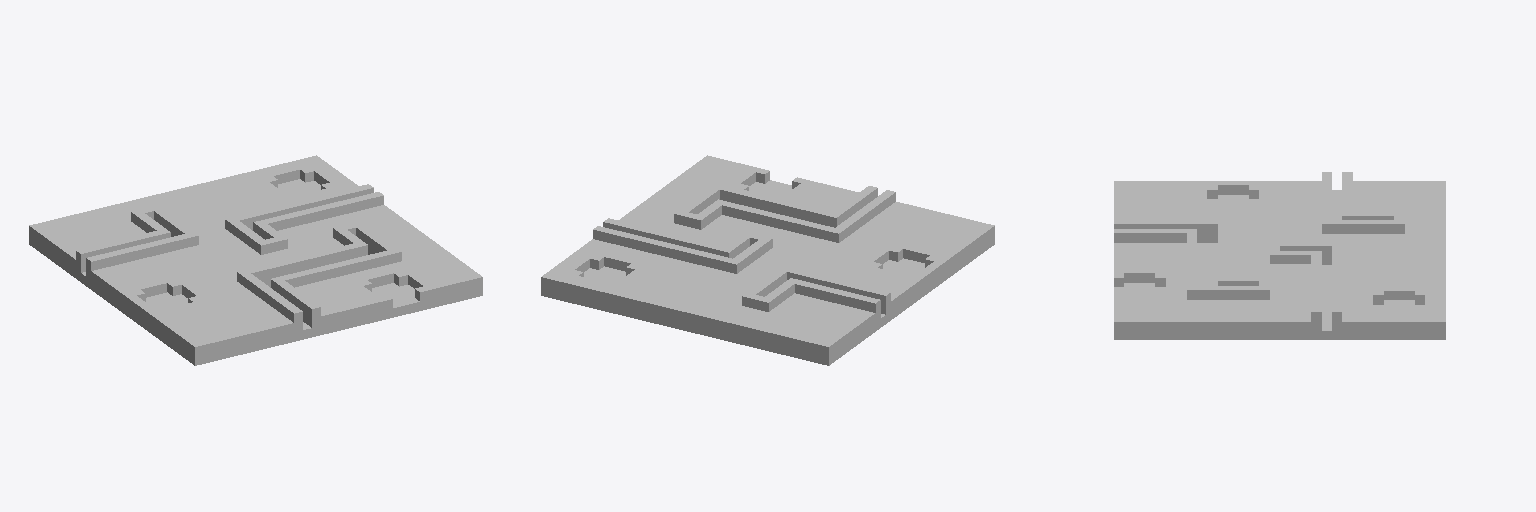
Rendered from Niveau 2.obj.
3 views of the same model, side by side, from view 1: azimuth 30°, elevation 25°; view 2: azimuth 150°, elevation 25°; view 3: azimuth 270°, elevation 25° (orthographic).
Visible parts, largest first — view 1: Niveau 2; view 2: Niveau 2; view 3: Niveau 2.
Boxes of the visible parts, box(x1,y1,x2,y2) form: Niveau 2: box(29, 155, 482, 365); Niveau 2: box(541, 155, 994, 365); Niveau 2: box(1114, 172, 1445, 339).
Size of the model in its own units: 3.2 by 0.3 by 3.2.